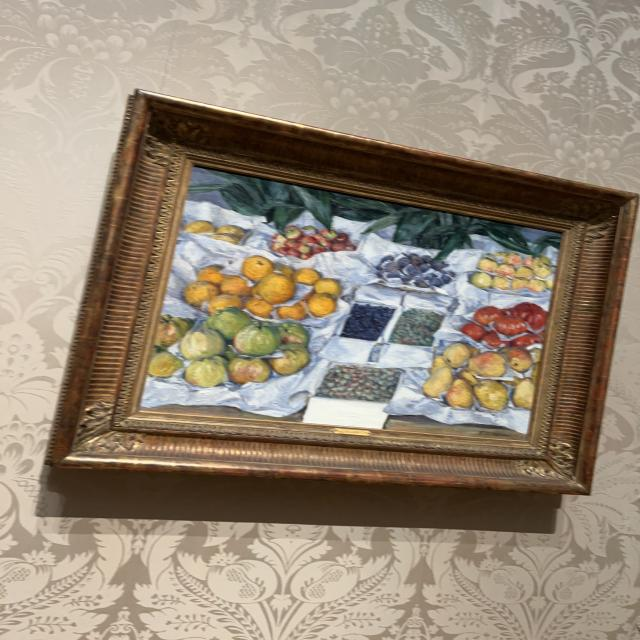fruits: (145, 170, 562, 437)
